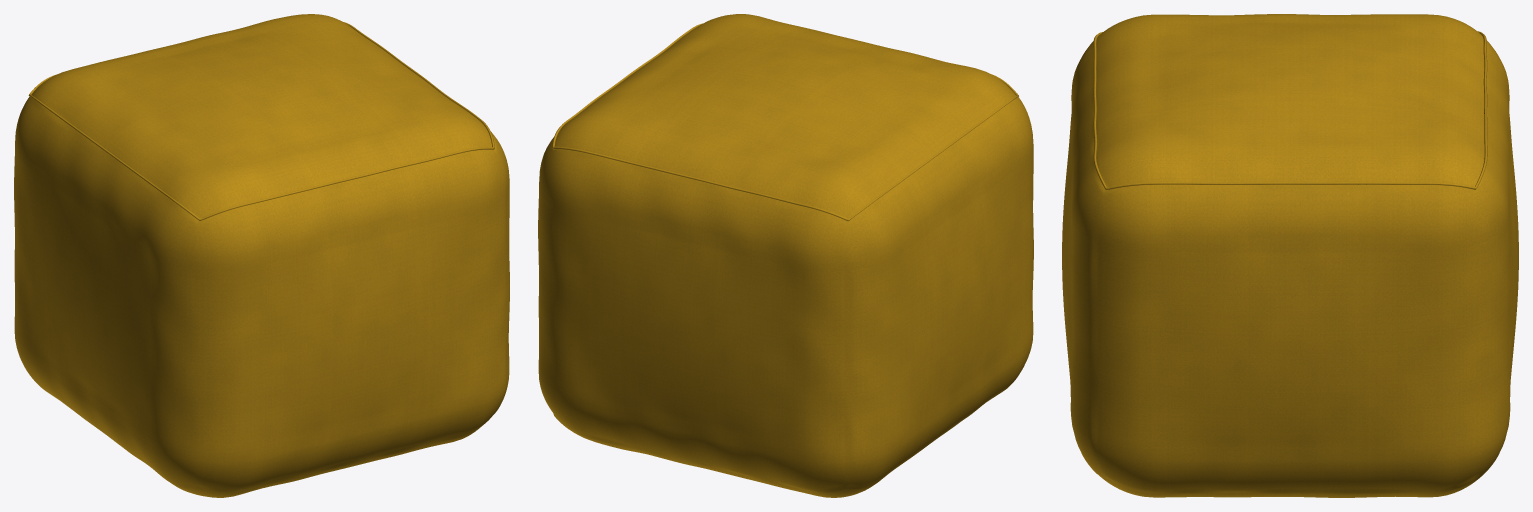
File: stanza-puff-square-01.glb
3 views of the same model, side by side, from view 1: azimuth 30°, elevation 25°; view 2: azimuth 150°, elevation 25°; view 3: azimuth 270°, elevation 25° (orthographic). The views are drawn at different scales.
Parts seen in each view (by area): view 1: puff_cover, puff_seam_top; view 2: puff_cover, puff_seam_top; view 3: puff_cover, puff_seam_top.
Part boxes in pixels (x1,y1,x2,y2): puff_cover: (14,14,509,497); puff_seam_top: (28,22,494,220); puff_cover: (538,14,1033,497); puff_seam_top: (552,23,1018,221); puff_cover: (1062,14,1518,497); puff_seam_top: (1093,31,1487,190).
Size of the model in its own units: 0.47 by 0.4189 by 0.47.
2 materials, 2 textured.
